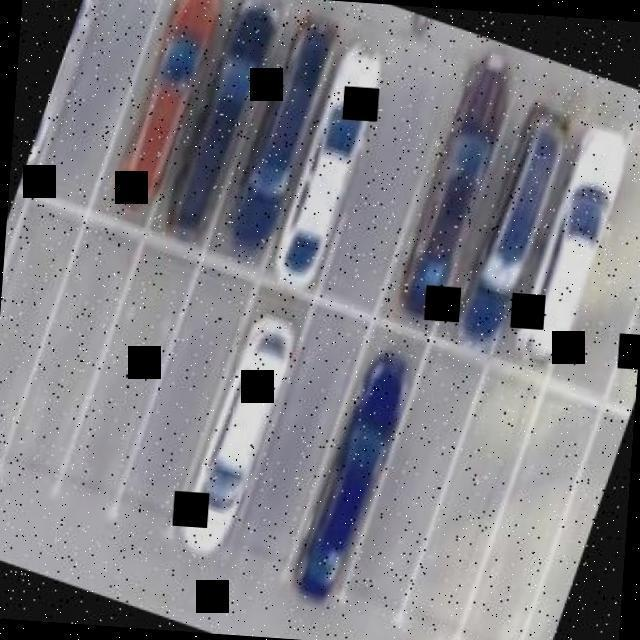car: (397, 88, 505, 313), (452, 118, 564, 330), (278, 51, 384, 273), (504, 148, 618, 346), (189, 323, 291, 537), (230, 32, 332, 230), (306, 366, 406, 562), (115, 6, 208, 200), (175, 22, 266, 205)
free: (474, 399, 596, 623), (239, 336, 357, 553), (366, 369, 474, 571), (132, 306, 238, 506), (74, 272, 180, 471), (420, 405, 526, 604), (17, 253, 125, 447), (334, 110, 431, 292), (55, 0, 150, 171), (563, 170, 640, 374), (0, 254, 63, 427)
